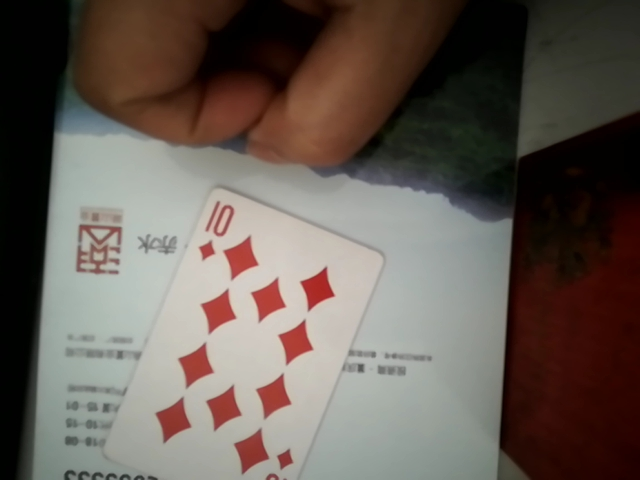fk 10: (110, 170, 376, 480)
